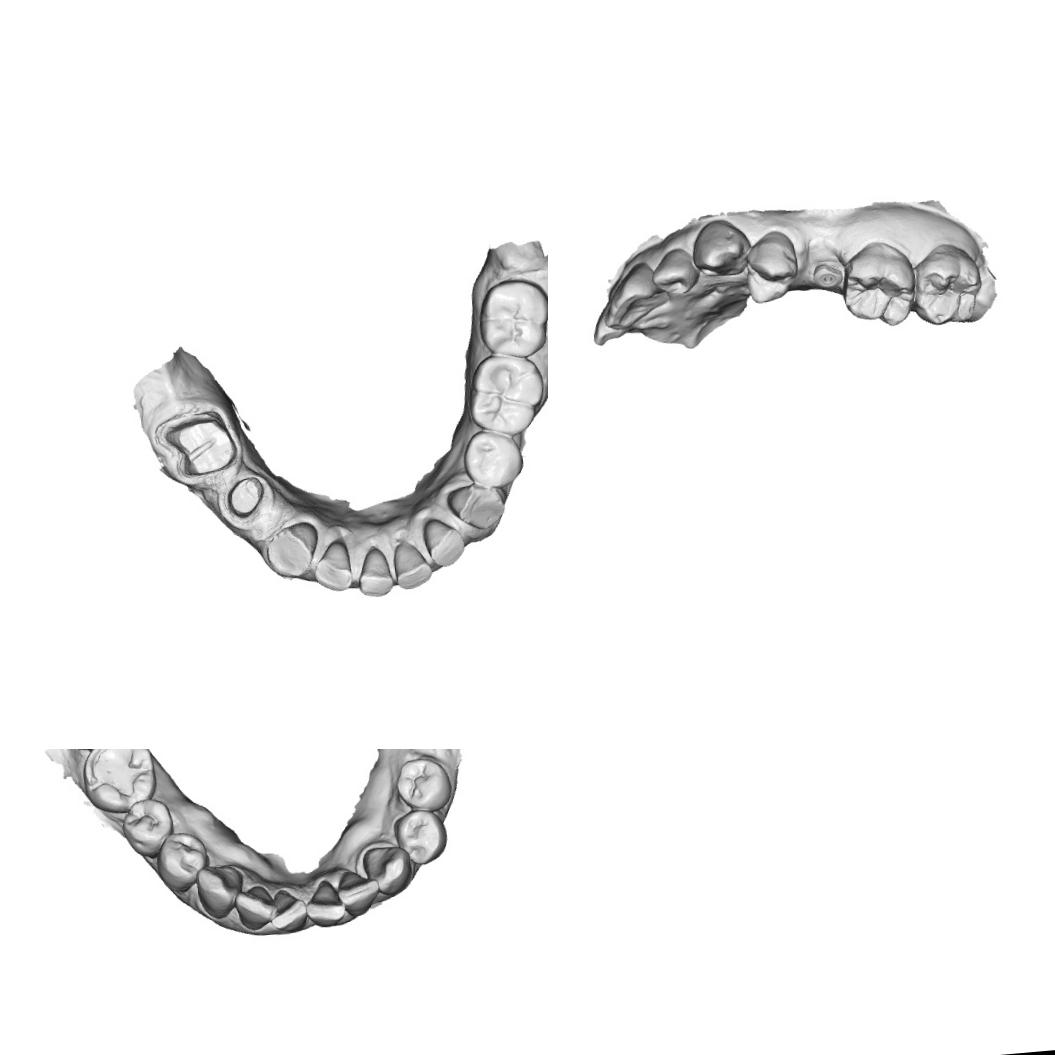canine: (687, 214, 753, 279), (262, 518, 322, 583), (443, 481, 512, 535), (192, 860, 247, 921), (361, 842, 416, 898)
crown: (159, 410, 243, 487), (220, 471, 271, 523)
implant: (806, 258, 846, 292)
incisor: (598, 258, 670, 330), (418, 514, 469, 570), (307, 536, 355, 595), (648, 244, 700, 298), (332, 865, 382, 920), (388, 536, 436, 592), (302, 874, 350, 929), (352, 542, 396, 600), (230, 880, 276, 934), (265, 886, 309, 936), (586, 298, 627, 350)
molar: (836, 236, 920, 332), (462, 349, 548, 441), (473, 274, 548, 363), (908, 243, 984, 328), (77, 749, 160, 816)
premolar: (741, 225, 803, 304), (458, 425, 526, 492), (150, 828, 211, 898), (119, 794, 178, 862), (390, 805, 450, 869), (391, 754, 456, 813)
